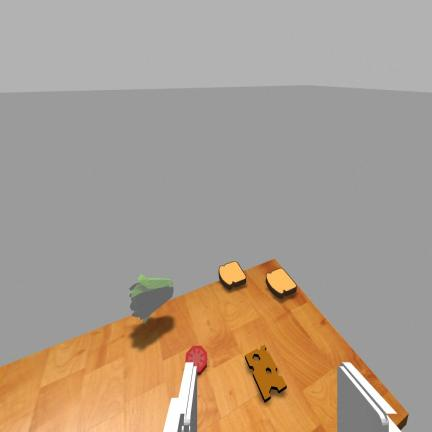cheese: (245, 345, 286, 401)
lettuce: (130, 275, 173, 322)
sliced_bread: (266, 268, 297, 298), (219, 261, 246, 289)
sliced_tomato: (186, 346, 207, 374)
